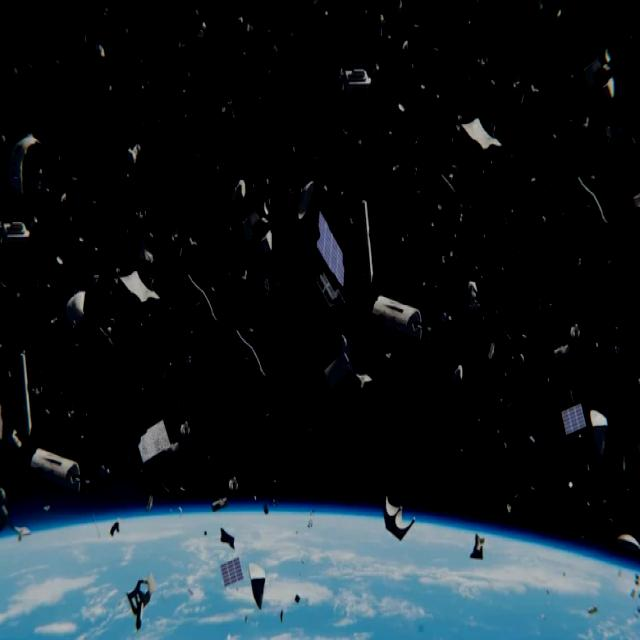large_debris: (310, 203, 352, 316), (317, 326, 373, 409), (132, 406, 194, 472), (371, 283, 428, 349), (28, 439, 84, 502), (4, 127, 43, 204), (335, 47, 378, 115), (123, 563, 159, 638), (119, 259, 163, 315), (458, 109, 506, 159), (0, 217, 35, 284), (382, 488, 419, 550), (558, 386, 590, 446), (289, 173, 320, 231), (62, 286, 90, 338), (246, 556, 267, 617), (217, 548, 244, 593), (239, 202, 263, 250), (228, 173, 249, 212), (125, 140, 143, 178), (260, 225, 276, 258)
